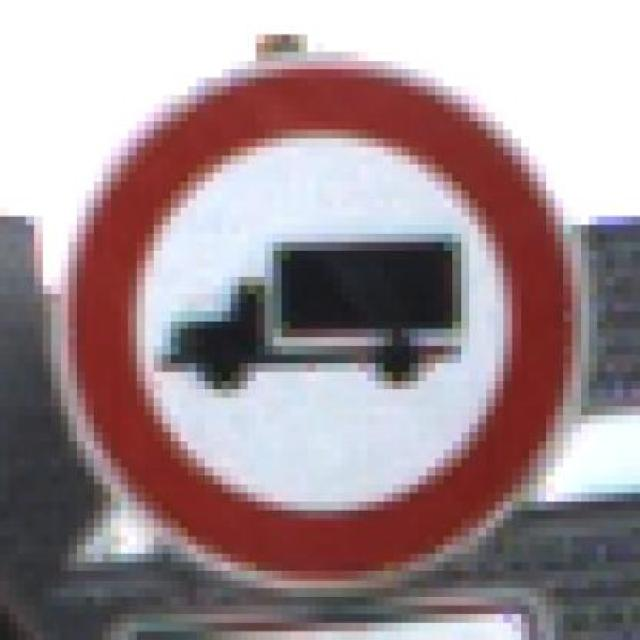Truck traffic is prohibited: (21, 29, 584, 608)
